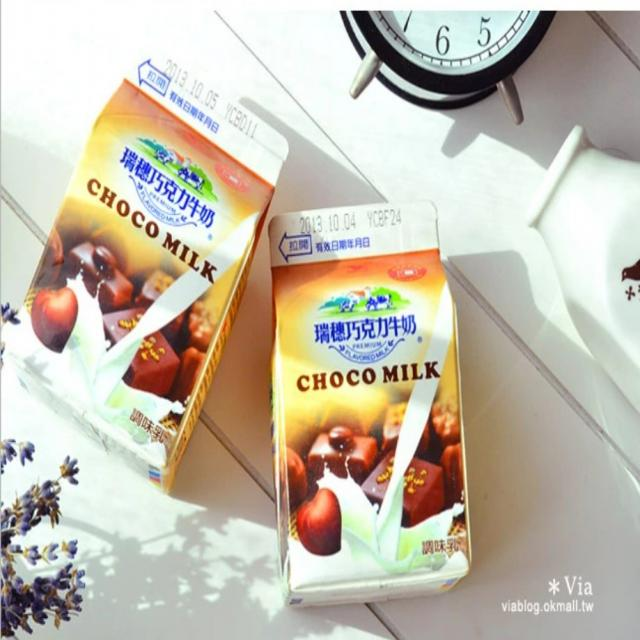non_white_jug: (2, 24, 308, 519), (262, 182, 482, 602)
